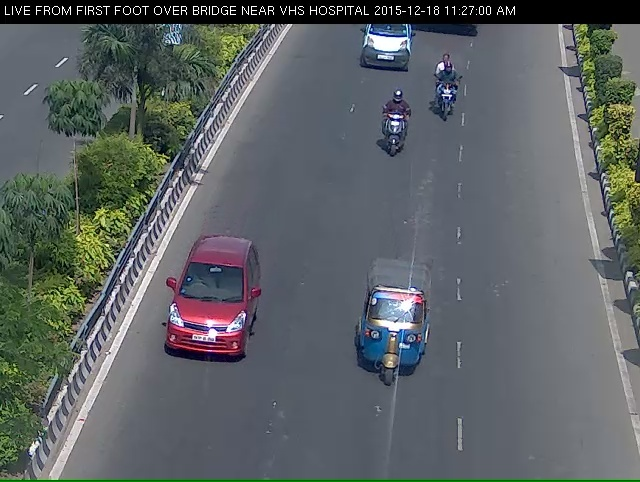Auto: (348, 271, 441, 409)
Car: (148, 244, 260, 400), (354, 20, 421, 75)
Person: (430, 56, 475, 136), (376, 100, 410, 174)
